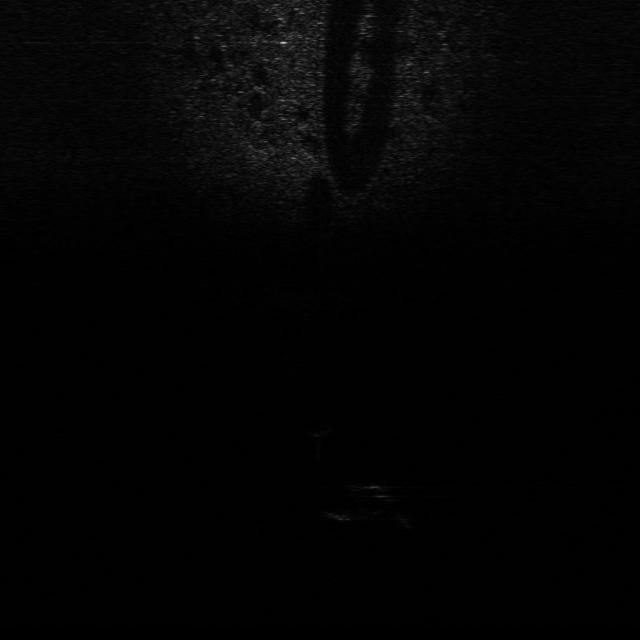ball: (300, 408, 336, 440)
tyre: (320, 481, 400, 527)
